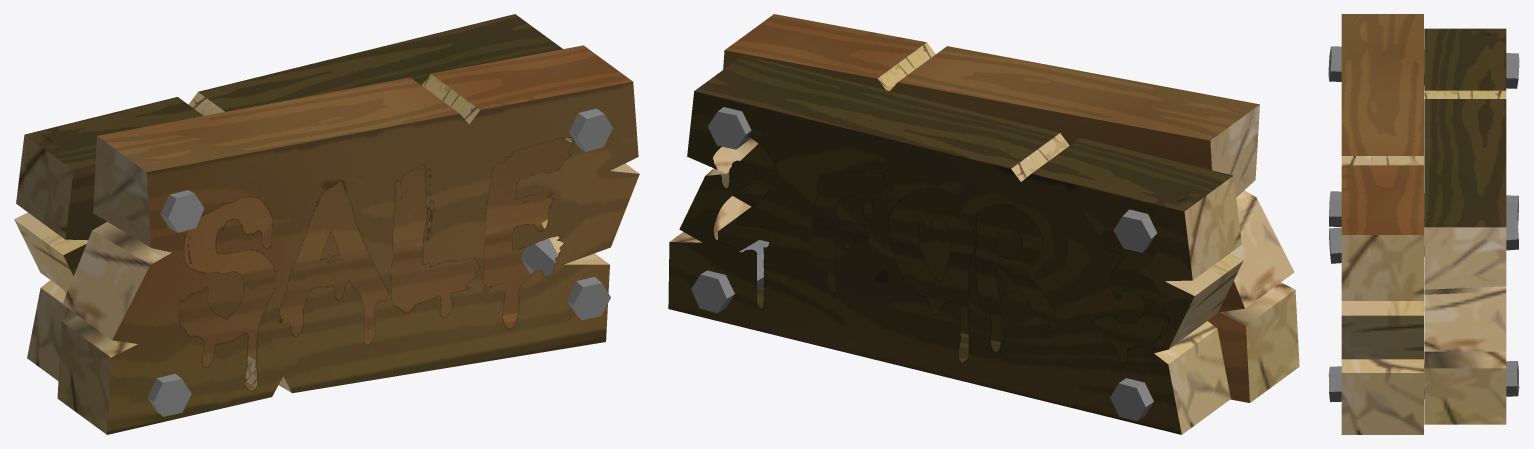
Rendered from obj_manmade_saleSign.fbx.
3 views of the same model, side by side, from view 1: azimuth 30°, elevation 25°; view 2: azimuth 150°, elevation 25°; view 3: azimuth 270°, elevation 25° (orthographic). The views are drawn at different scales.
Visible parts, largest first — view 1: salesign_lod0; view 2: salesign_lod0; view 3: salesign_lod0.
Boxes of the visible parts, box(x1,y1,x2,y2) form: salesign_lod0: box(14, 14, 639, 434); salesign_lod0: box(668, 14, 1299, 434); salesign_lod0: box(1328, 14, 1519, 434).
Size of the model in its own units: 3.04 by 1.54 by 1.14.
